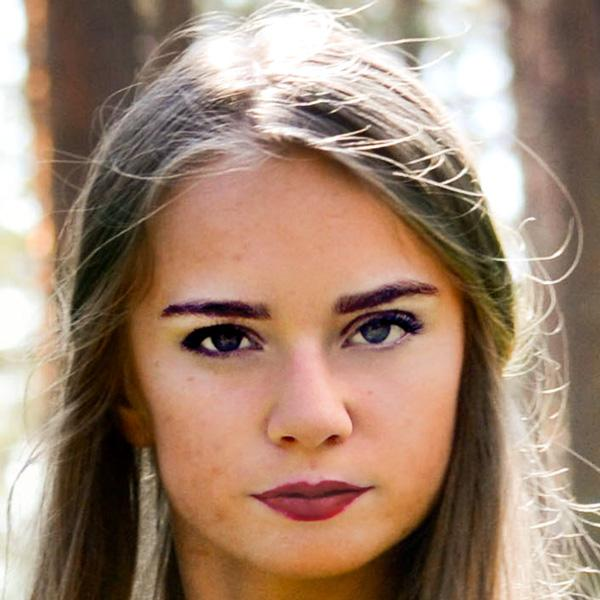Eyes: (175, 311, 268, 374), (331, 306, 423, 361)
